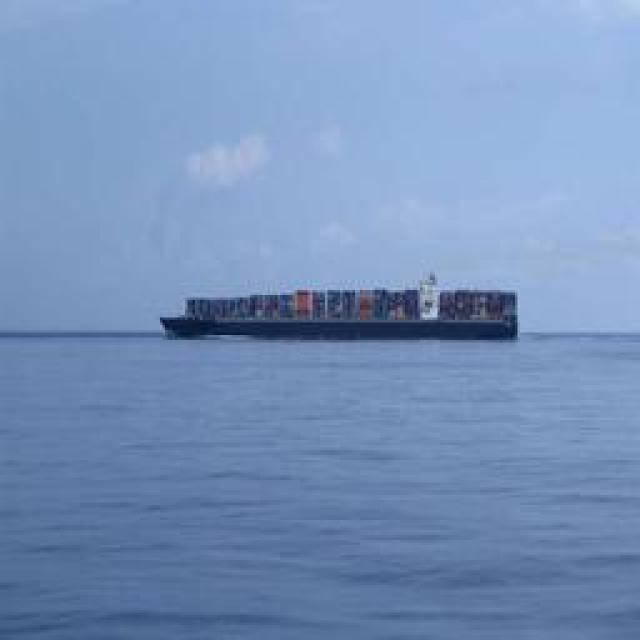Ship: (166, 284, 529, 344)
